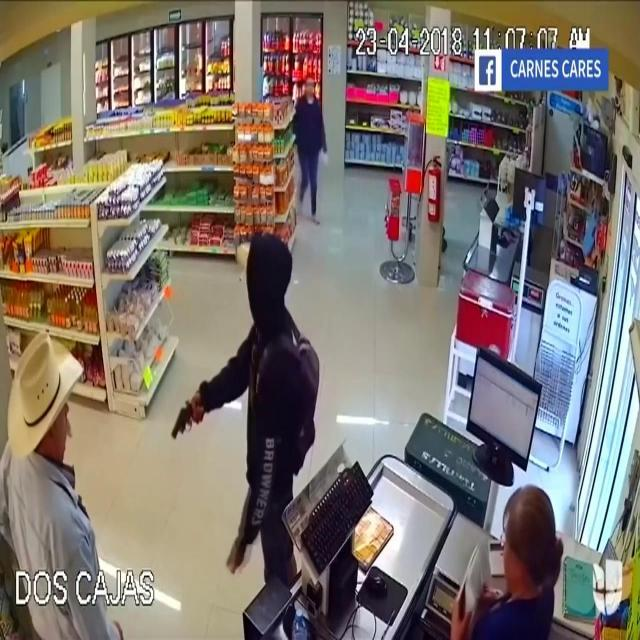weapon: (168, 381, 195, 463)
